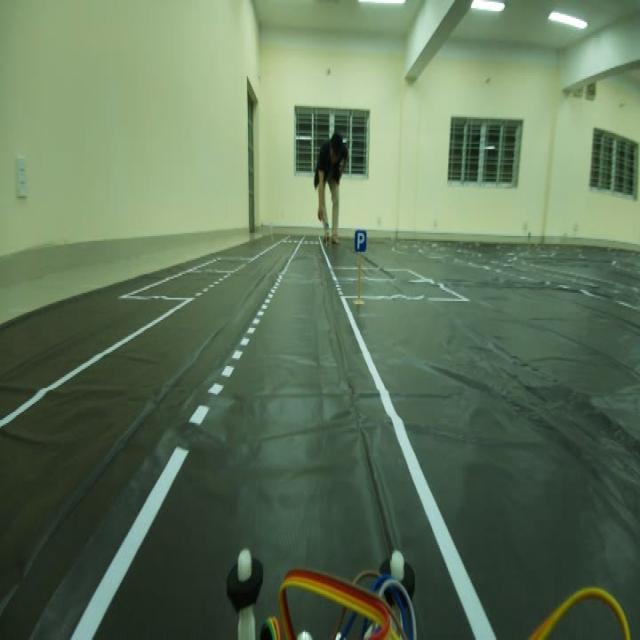parking: (350, 222, 368, 255)
